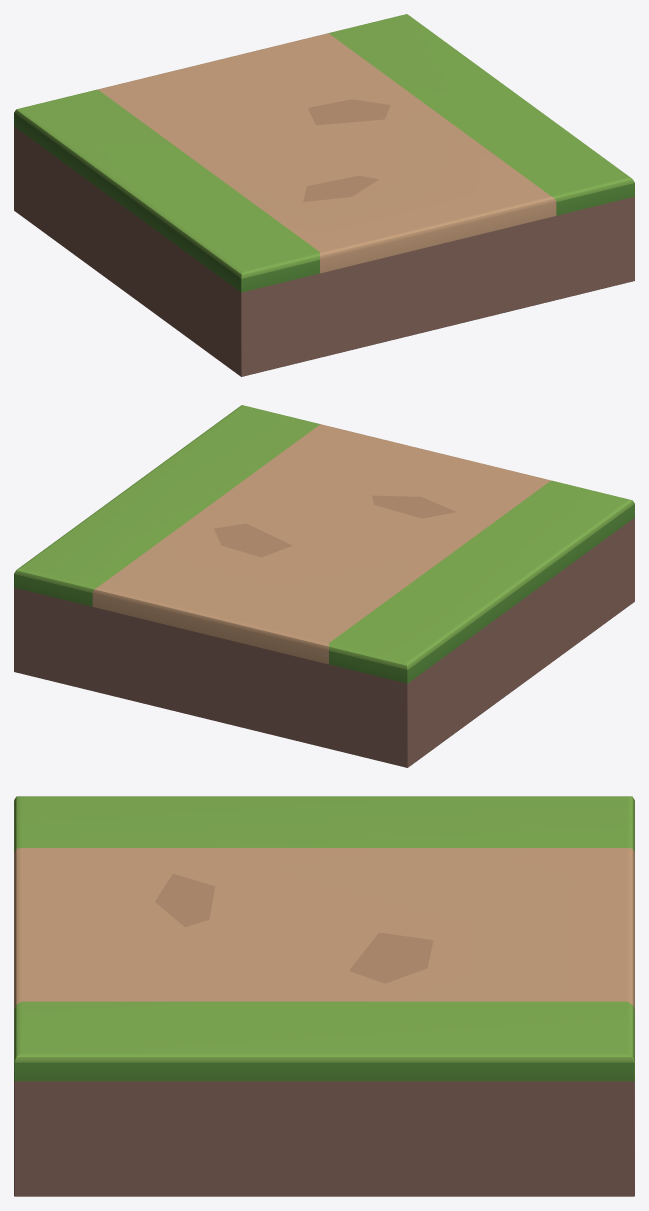
File: dirt_path_rough_variant_01.glb
3 renders of one model, top to bottom at view 1: azimuth 30°, elevation 25°; view 2: azimuth 150°, elevation 25°; view 3: azimuth 270°, elevation 25°, orthographic. The views are drawn at different scales.
Visible parts, largest first — view 1: dirt_path_rough_variant_01; view 2: dirt_path_rough_variant_01; view 3: dirt_path_rough_variant_01.
Part boxes in pixels (box(x1,y1,x2,y2)): dirt_path_rough_variant_01: box(14, 14, 634, 376); dirt_path_rough_variant_01: box(14, 405, 634, 767); dirt_path_rough_variant_01: box(14, 796, 634, 1196).
Size of the model in its own units: 1 by 0.25 by 1.
